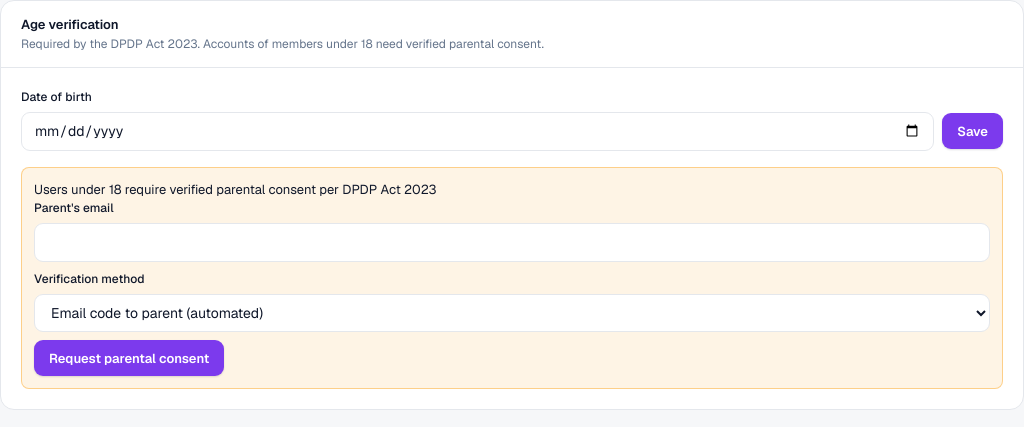
it: AgeVerificationSection › rejects a malformed code locally without calling the API
Expected: the text "require verified parental consent" is shown, [34, 180, 436, 198]
Step 1. Type "parent@example.com" into the field labelled "Parent's email" → (512, 242), box [34, 223, 990, 262]
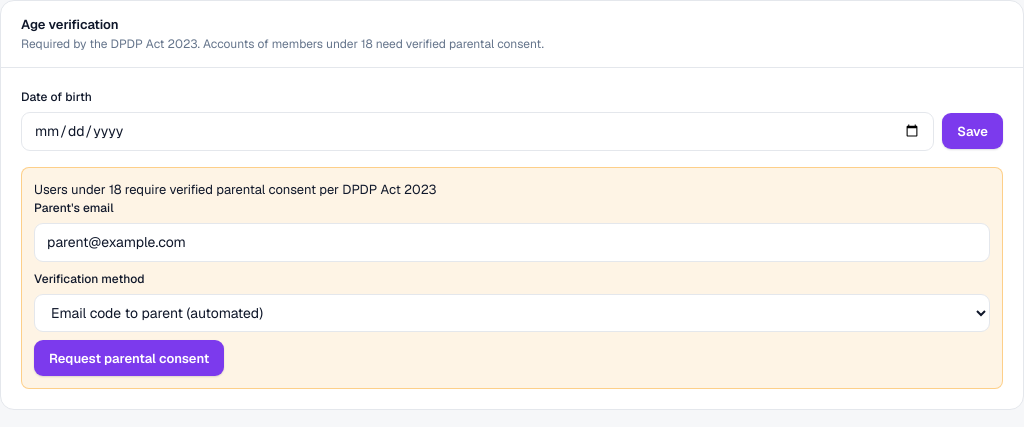
Step 2. Click the button "Request parental consent" → (129, 358), box [34, 340, 224, 376]
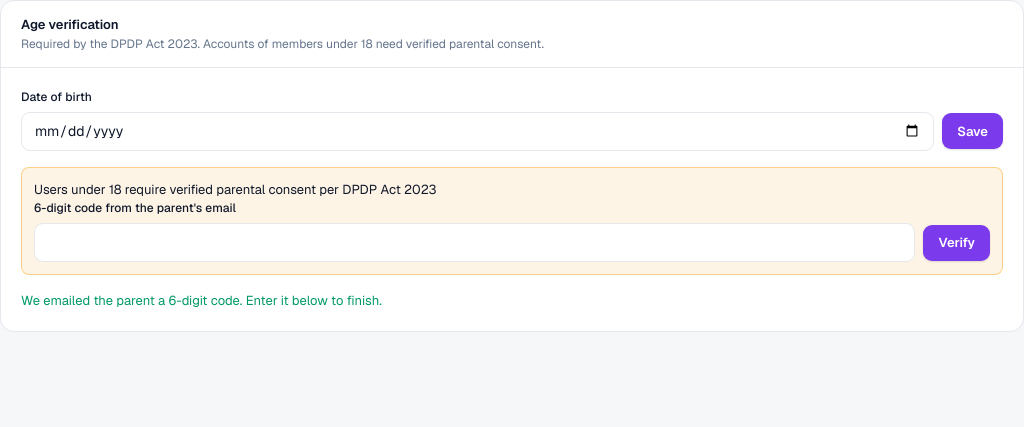
Expected: the text "emailed the parent a 6-digit code" is shown, [21, 292, 382, 309]
Step 3. Type "12ab" into the field labelled "6-digit code from the parent's email" → (475, 242), box [34, 223, 915, 262]
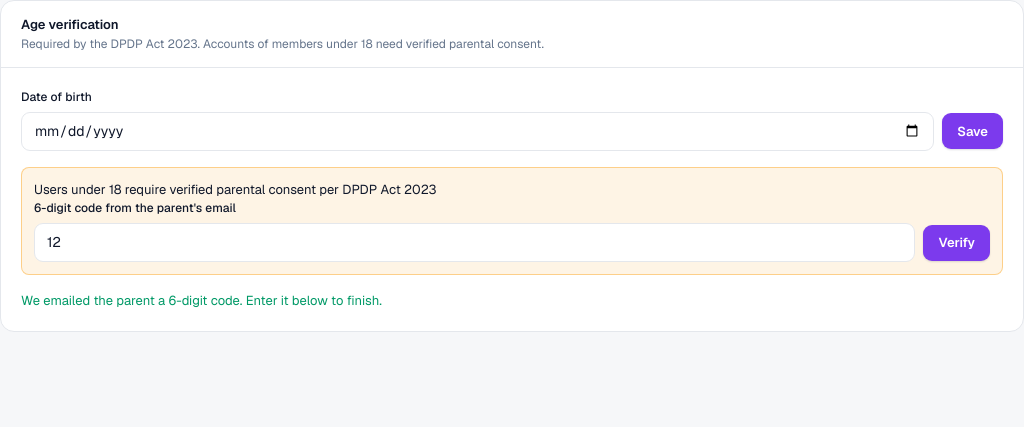
Step 4. Click the button "Verify" → (957, 242), box [923, 224, 990, 260]
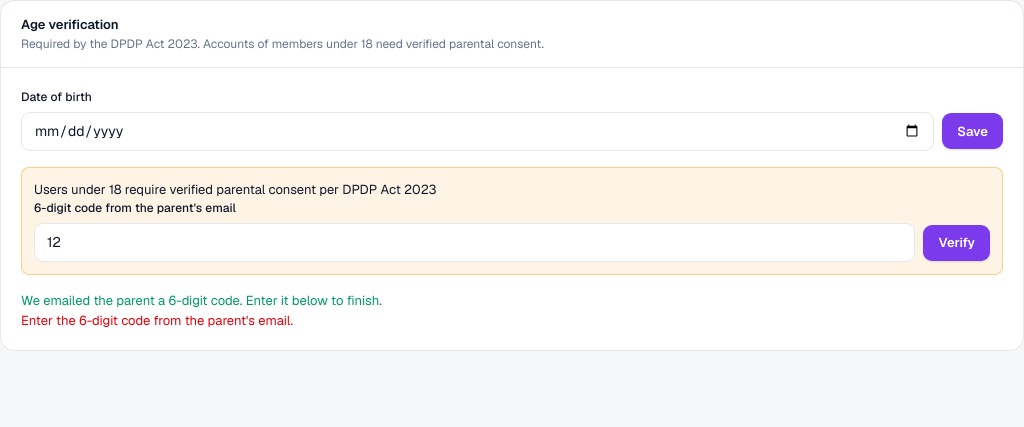
Expected: the text "Enter the 6-digit code from the parent's email." is shown, [21, 312, 293, 328]
